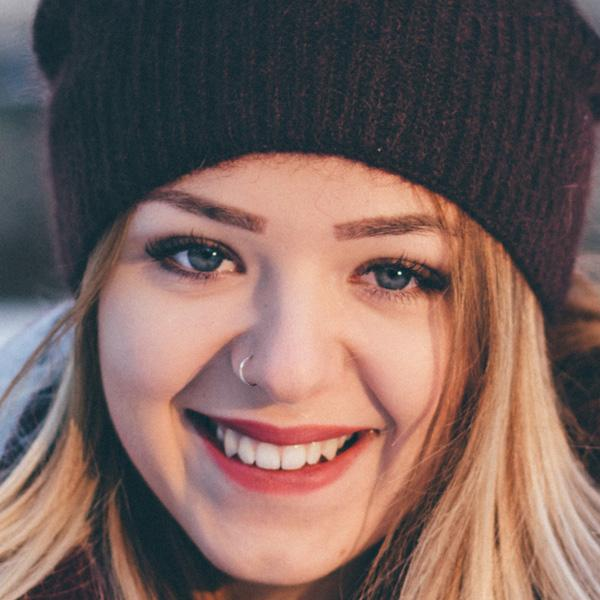Eyes: (135, 221, 254, 292), (338, 244, 450, 314)
